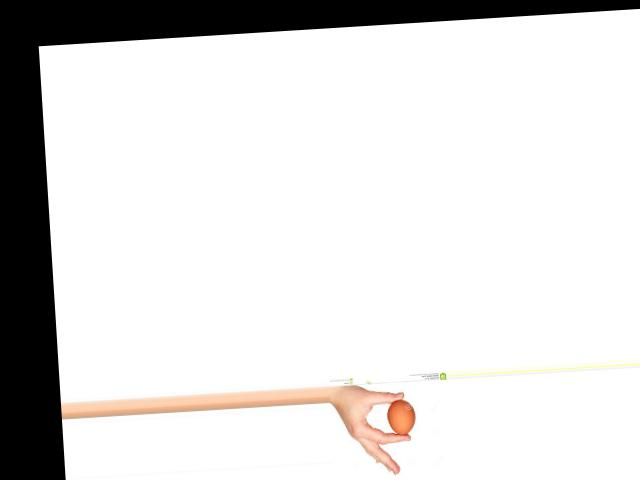egg: (385, 398, 416, 435)
